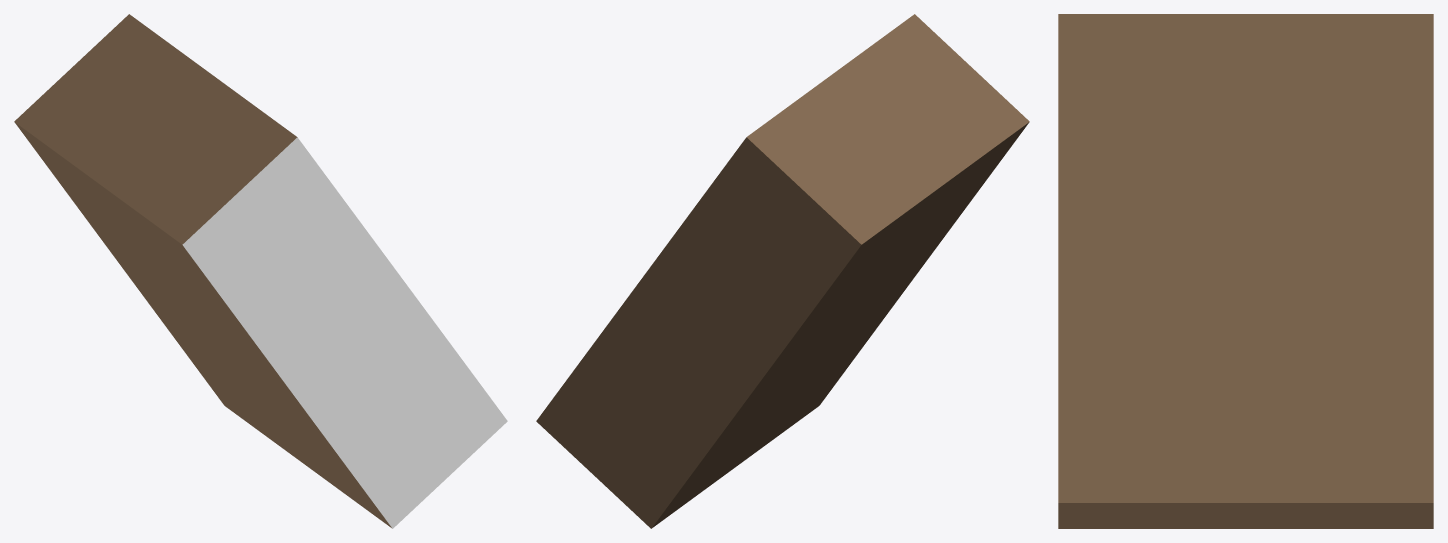
The picture shows the model from 3 angles, left to right: view 1: azimuth 30°, elevation 25°; view 2: azimuth 150°, elevation 25°; view 3: azimuth 270°, elevation 25°; orthographic projection. The views are drawn at different scales.
Visible parts, largest first — view 1: City_PC-08704; view 2: City_PC-08704; view 3: City_PC-08704.
Part boxes in pixels (<box>): City_PC-08704: <box>14,14,507,528</box>; City_PC-08704: <box>536,14,1029,528</box>; City_PC-08704: <box>1058,14,1433,528</box>.
Size of the model in its own units: 1718 by 2093 by 1538.
